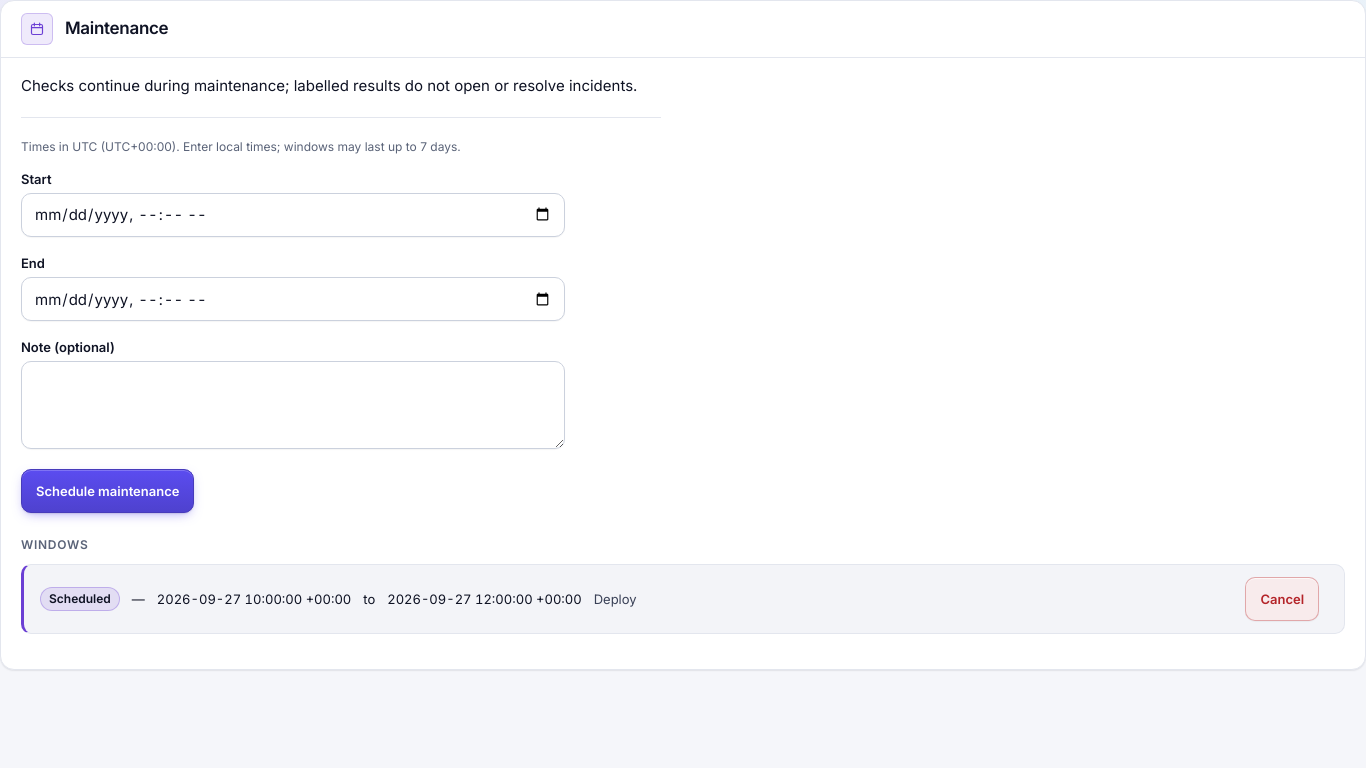
Scenario: MaintenanceSection › maps overlap and limit errors and reloads after window_closed
The width and height of the screenshot is (1366, 768).
Type "2026-09-27T10:00" into the field labelled "Start".
click(293, 215); type("2026-09-27T10:00")  # box x1=21 y1=193 x2=565 y2=237
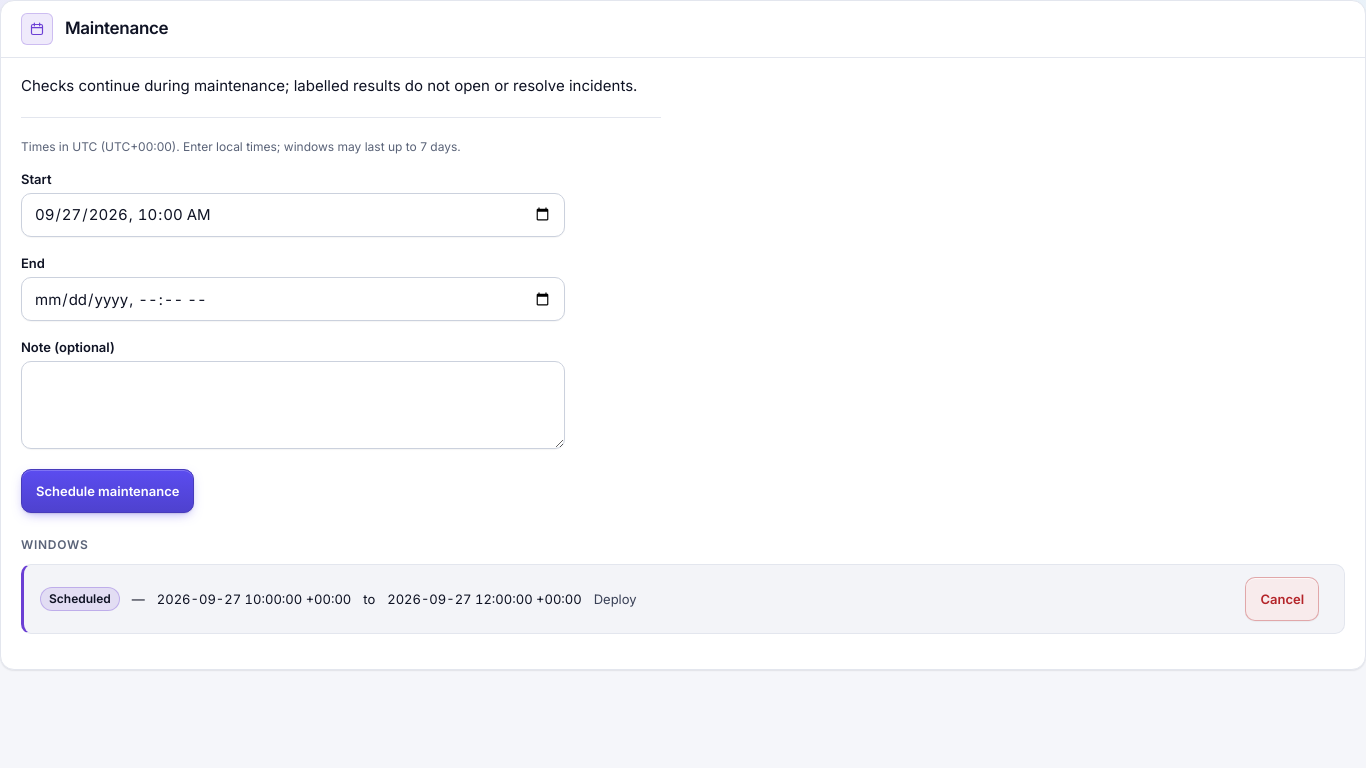
Type "2026-09-27T11:00" into the field labelled "End".
click(293, 299); type("2026-09-27T11:00")  # box x1=21 y1=277 x2=565 y2=321
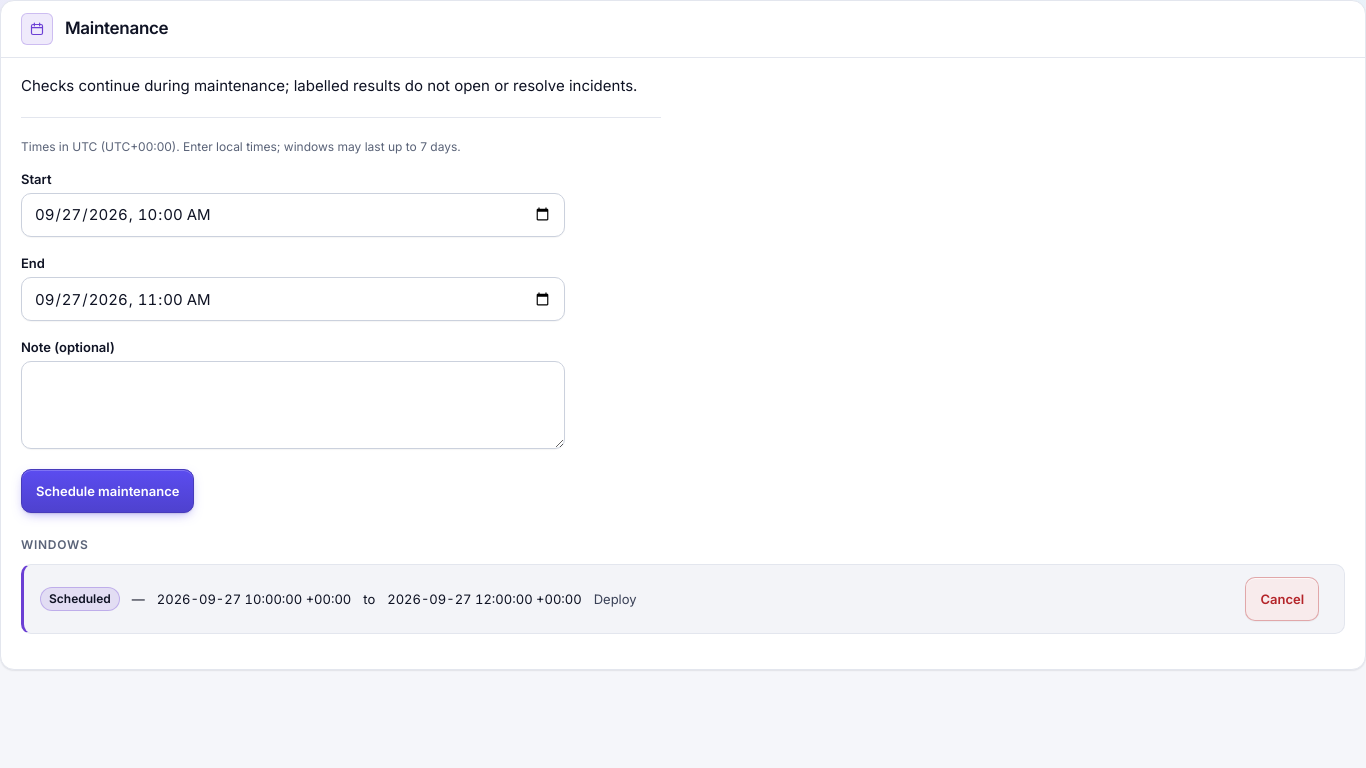
Click the button "Schedule maintenance".
click(108, 491)  # box x1=21 y1=469 x2=194 y2=513
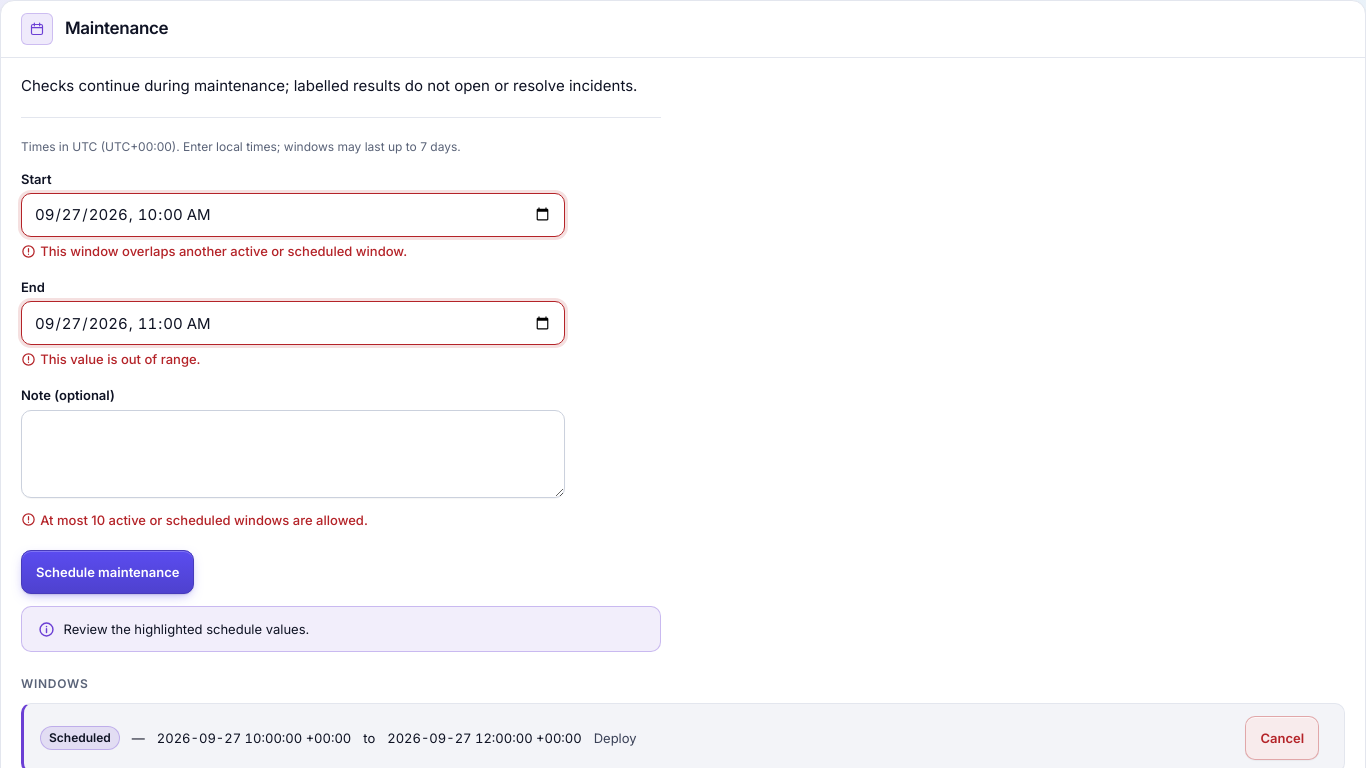
Expected: the text "This window overlaps another active or scheduled window." is shown, x1=40 y1=243 x2=407 y2=259
Expected: the text "At most 10 active or scheduled windows are allowed." is shown, x1=40 y1=512 x2=368 y2=528
Expected: the text "This value is out of range." is shown, x1=40 y1=351 x2=201 y2=367
Click the button "Cancel".
click(1282, 738)  # box x1=1245 y1=716 x2=1319 y2=760
(page scrolled)
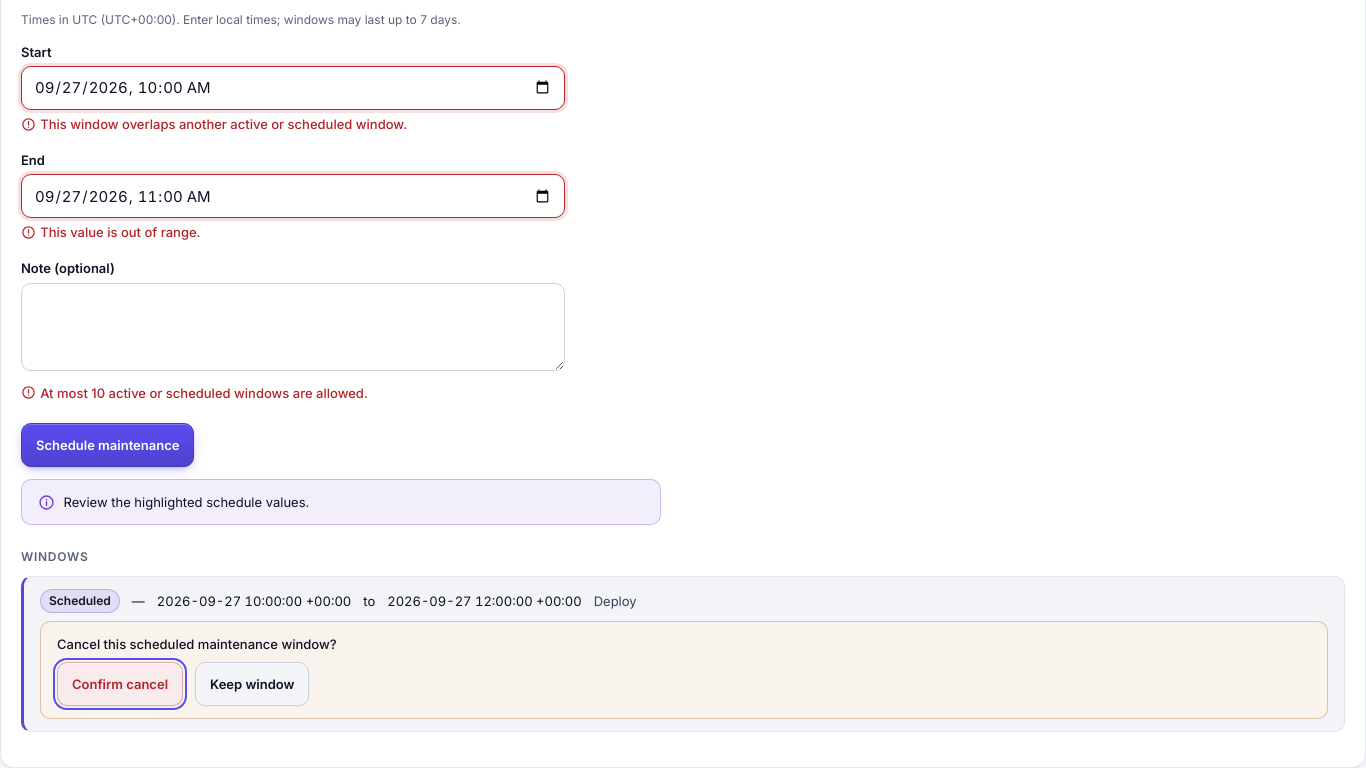
Click the button "Confirm cancel".
click(120, 684)  # box x1=57 y1=662 x2=183 y2=706
(page scrolled)
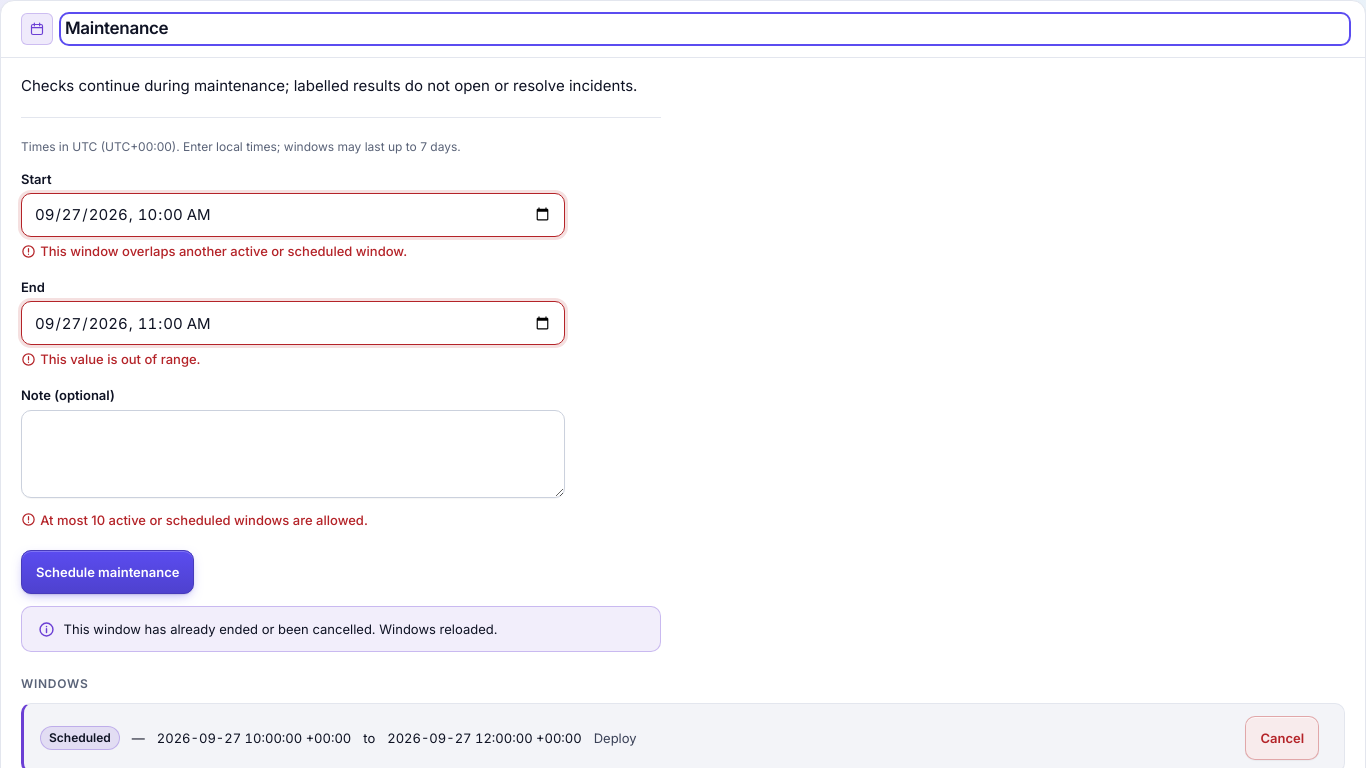
Expected: the text "This window has already ended or been cancelled. Windows reloaded." is shown, x1=21 y1=606 x2=661 y2=652
